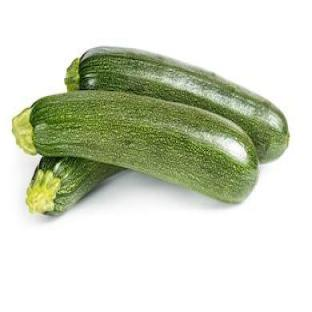Zucchini: (13, 92, 258, 202), (65, 47, 288, 163), (27, 158, 122, 214)
